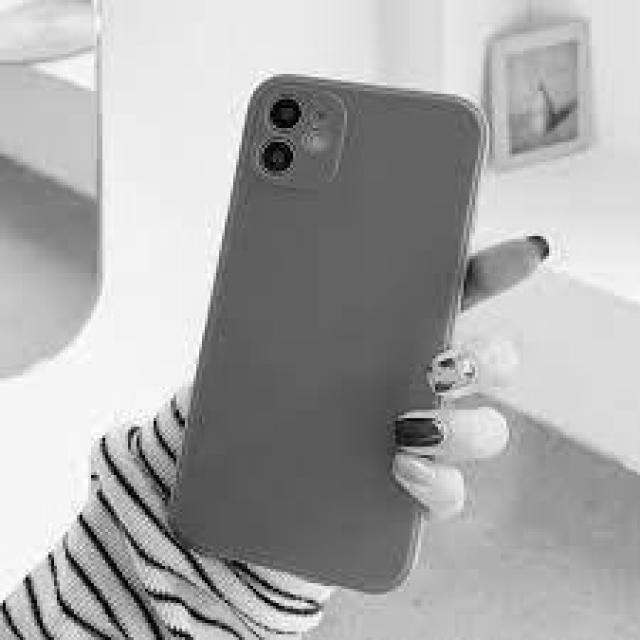No gun_phone: (170, 73, 490, 596)
